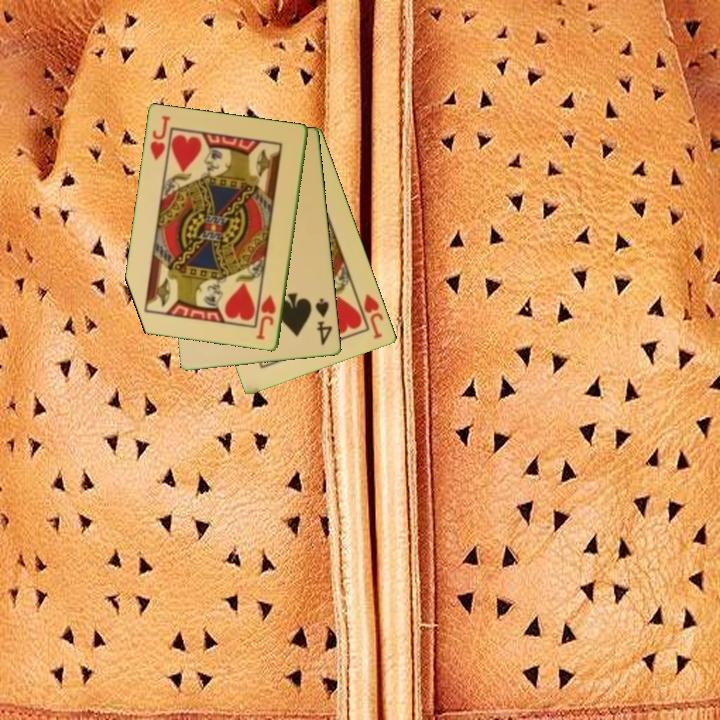4s: (312, 295, 336, 348)
Jh: (353, 290, 387, 342), (253, 291, 279, 343), (147, 113, 173, 163)
